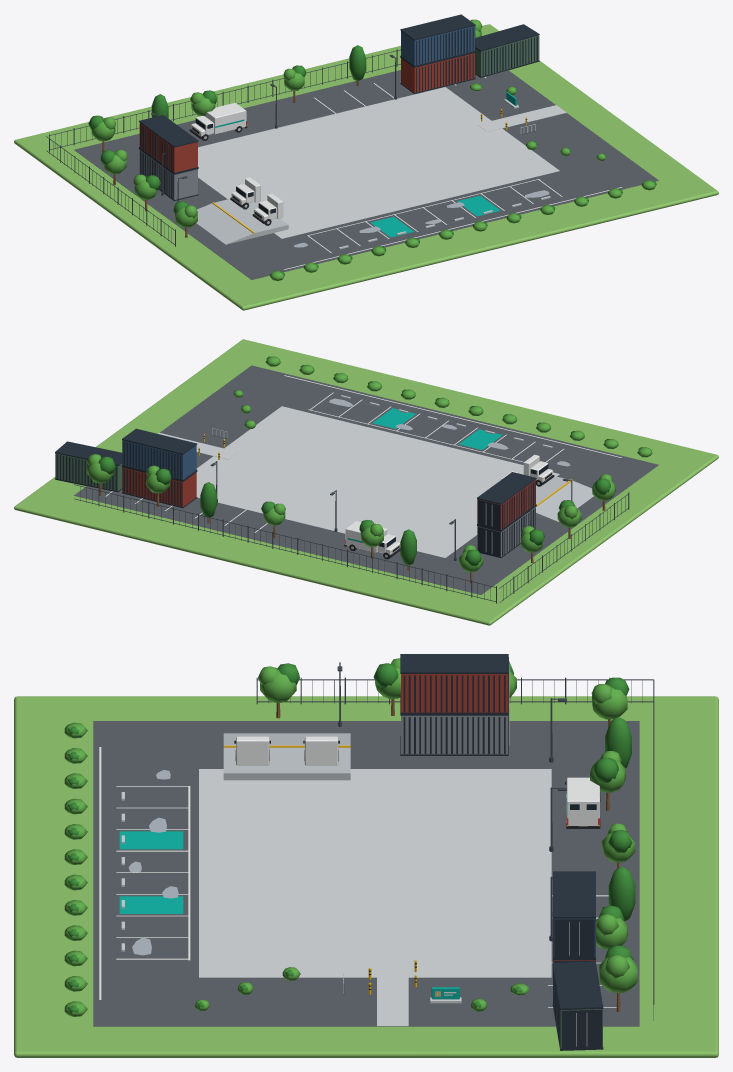
File: umgebung.glb
The picture shows the model from 3 angles, top to bottom: view 1: azimuth 30°, elevation 25°; view 2: azimuth 150°, elevation 25°; view 3: azimuth 270°, elevation 25°; orthographic projection. The views are drawn at different scales.
Parts seen in each view (by area): view 1: umgebung; view 2: umgebung; view 3: umgebung.
Boxes of the visible parts, <box> form: umgebung: <box>14,14,718,310</box>; umgebung: <box>14,339,718,625</box>; umgebung: <box>14,654,718,1057</box>.
Size of the model in its own units: 48 by 5.67 by 40.
